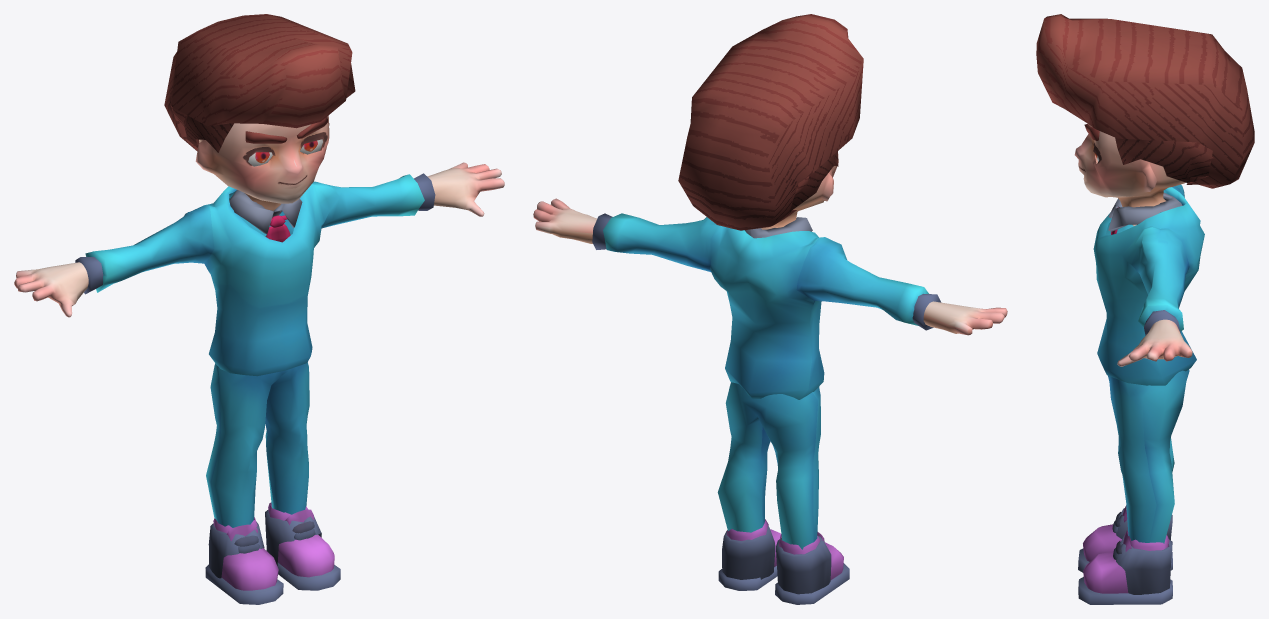
Rendered from MAN3.fbx.
The picture shows the model from 3 angles, left to right: view 1: azimuth 30°, elevation 25°; view 2: azimuth 150°, elevation 25°; view 3: azimuth 270°, elevation 25°; orthographic projection. The views are drawn at different scales.
Parts seen in each view (by area): view 1: Retopo_manager2_low.007; view 2: Retopo_manager2_low.007; view 3: Retopo_manager2_low.007.
Boxes of the visible parts, x1=… form: Retopo_manager2_low.007: x1=14, y1=14, x2=504, y2=604; Retopo_manager2_low.007: x1=533, y1=14, x2=1007, y2=604; Retopo_manager2_low.007: x1=1036, y1=14, x2=1254, y2=604.
Size of the model in its own units: 268 by 295 by 104.
